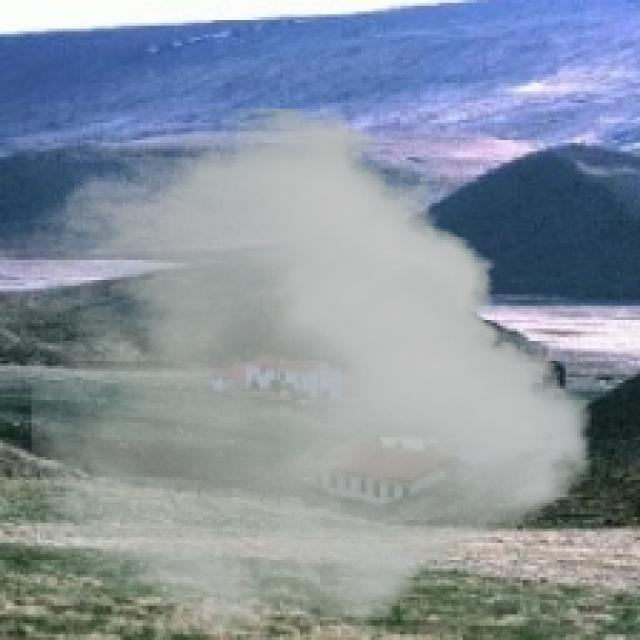Smoke: (31, 108, 592, 634)
